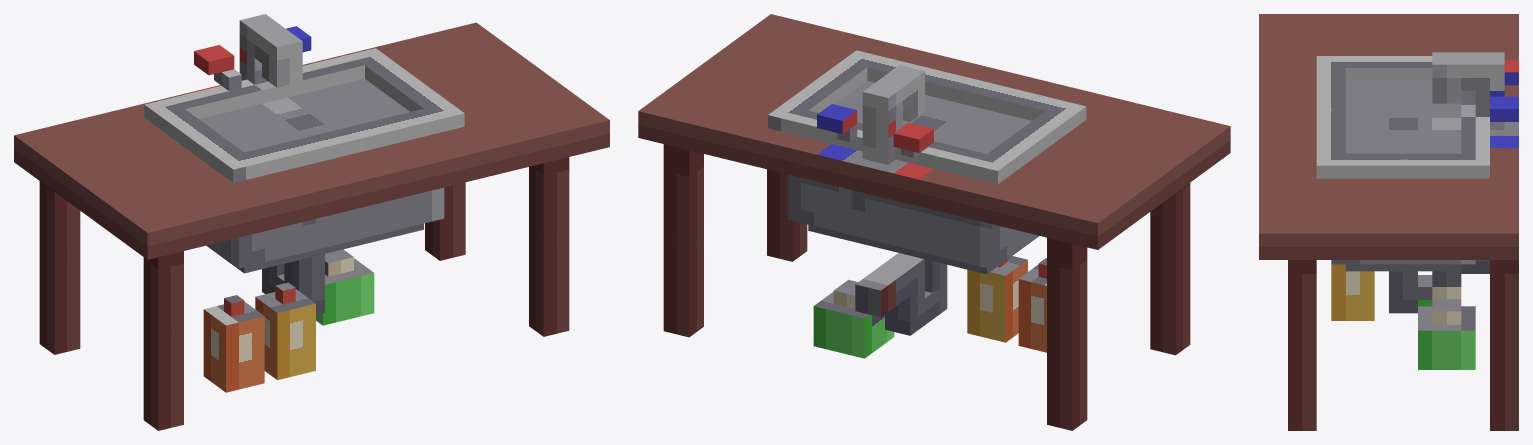
Rendered from int_sinkao.fezao.glb.
3 views of the same model, side by side, from view 1: azimuth 30°, elevation 25°; view 2: azimuth 150°, elevation 25°; view 3: azimuth 270°, elevation 25° (orthographic). The views are drawn at different scales.
Visible parts, largest first — view 1: INT_SINKAO; view 2: INT_SINKAO; view 3: INT_SINKAO.
Boxes of the visible parts, <box> form: INT_SINKAO: <box>14,14,609,430</box>; INT_SINKAO: <box>638,14,1230,430</box>; INT_SINKAO: <box>1259,14,1518,430</box>.
Bounding box in the file's own units: 2.25 × 1.31 × 1.12.
Materials: 1 (1 with a texture image).
